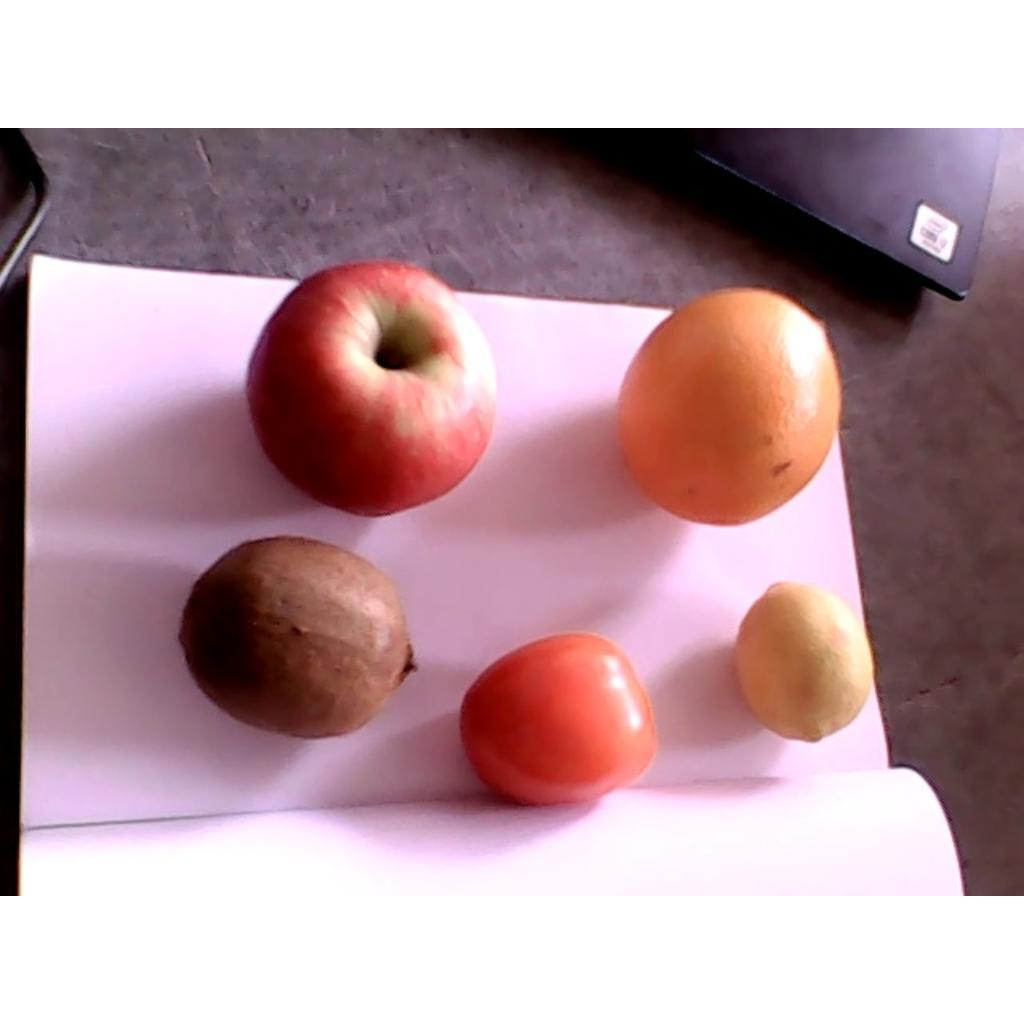apple: (247, 260, 497, 515)
kiwi: (178, 538, 419, 735)
lemon: (734, 581, 873, 743)
orange: (616, 288, 844, 523)
tomato: (458, 632, 658, 807)
